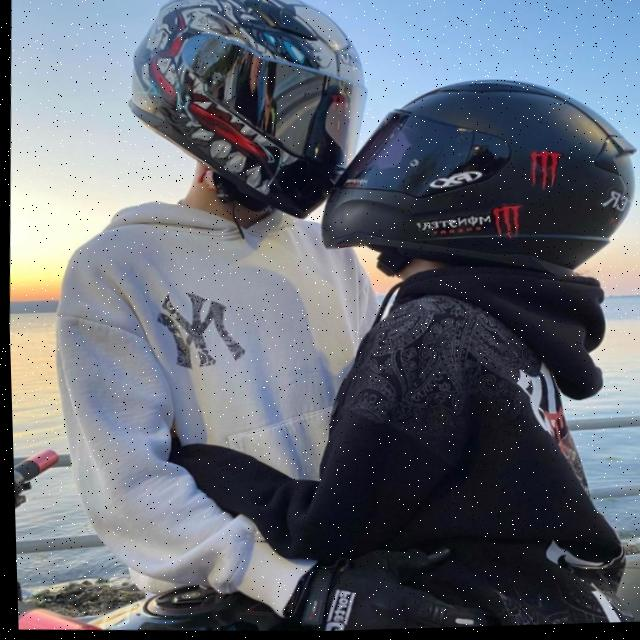helmet: (310, 66, 640, 295), (116, 0, 378, 232)
